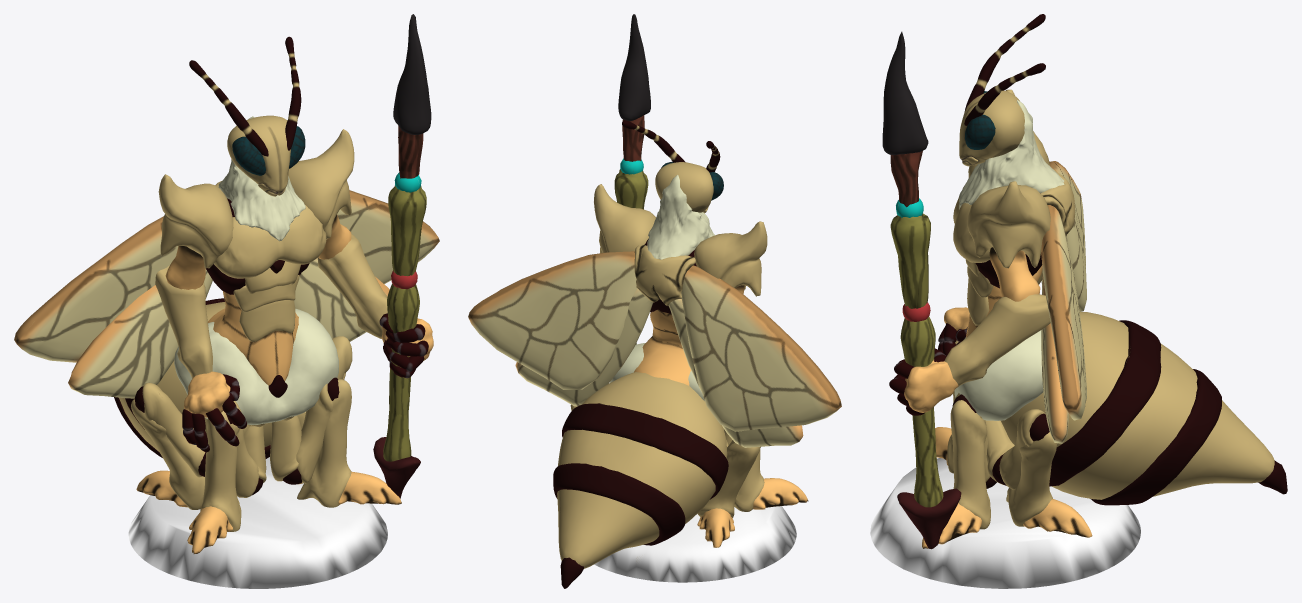
Rendered from Wasp_warrior_Rev02_Fbx_Rev01_Yellow.fbx.
The picture shows the model from 3 angles, left to right: view 1: azimuth 30°, elevation 25°; view 2: azimuth 150°, elevation 25°; view 3: azimuth 270°, elevation 25°; orthographic projection. The views are drawn at different scales.
Parts seen in each view (by area): view 1: Merged_WW_Spear_Low; view 2: Merged_WW_Spear_Low; view 3: Merged_WW_Spear_Low.
Part boxes in pixels (x1,y1,x2,y2): Merged_WW_Spear_Low: (14,14,439,588); Merged_WW_Spear_Low: (468,14,841,588); Merged_WW_Spear_Low: (870,14,1287,588).
Bounding box in the file's own units: 32.01 × 38.37 × 26.21.
Materials: 1 (1 with a texture image).
